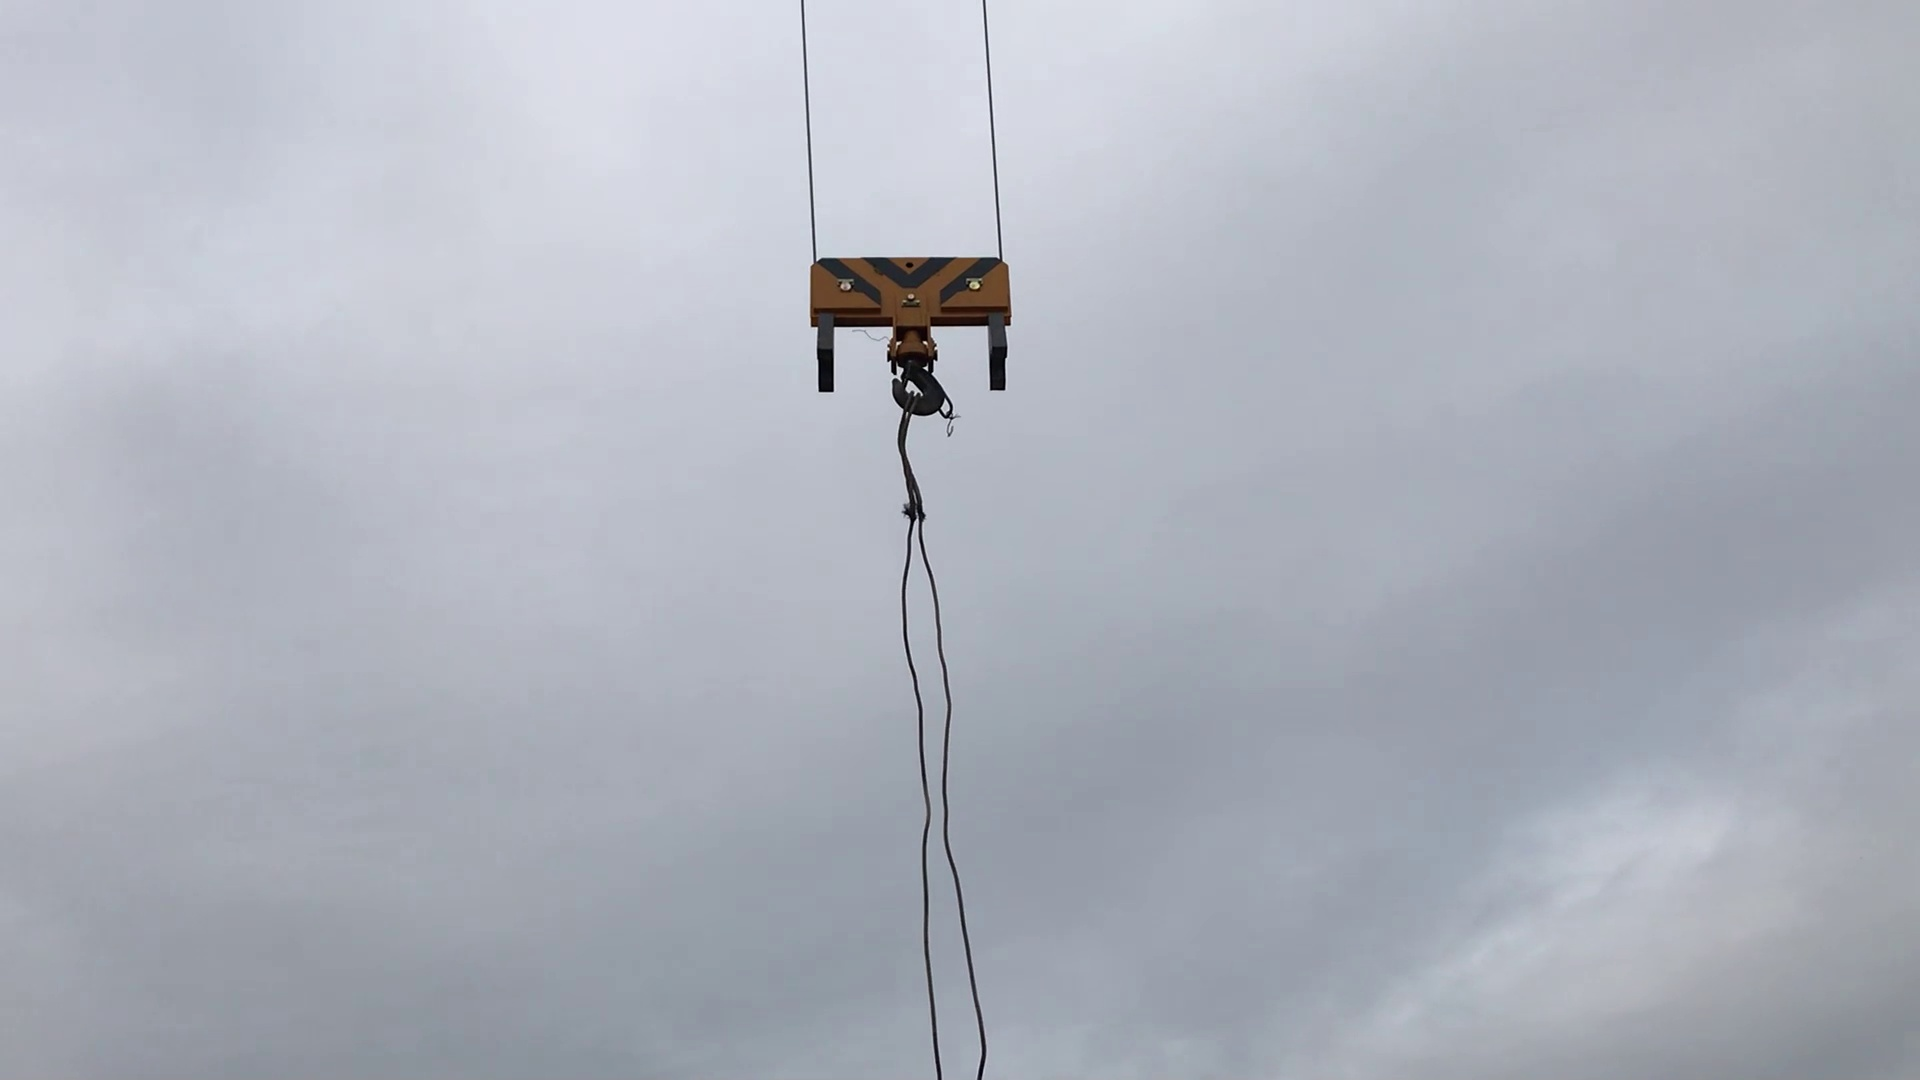hook: (785, 229, 1044, 462)
